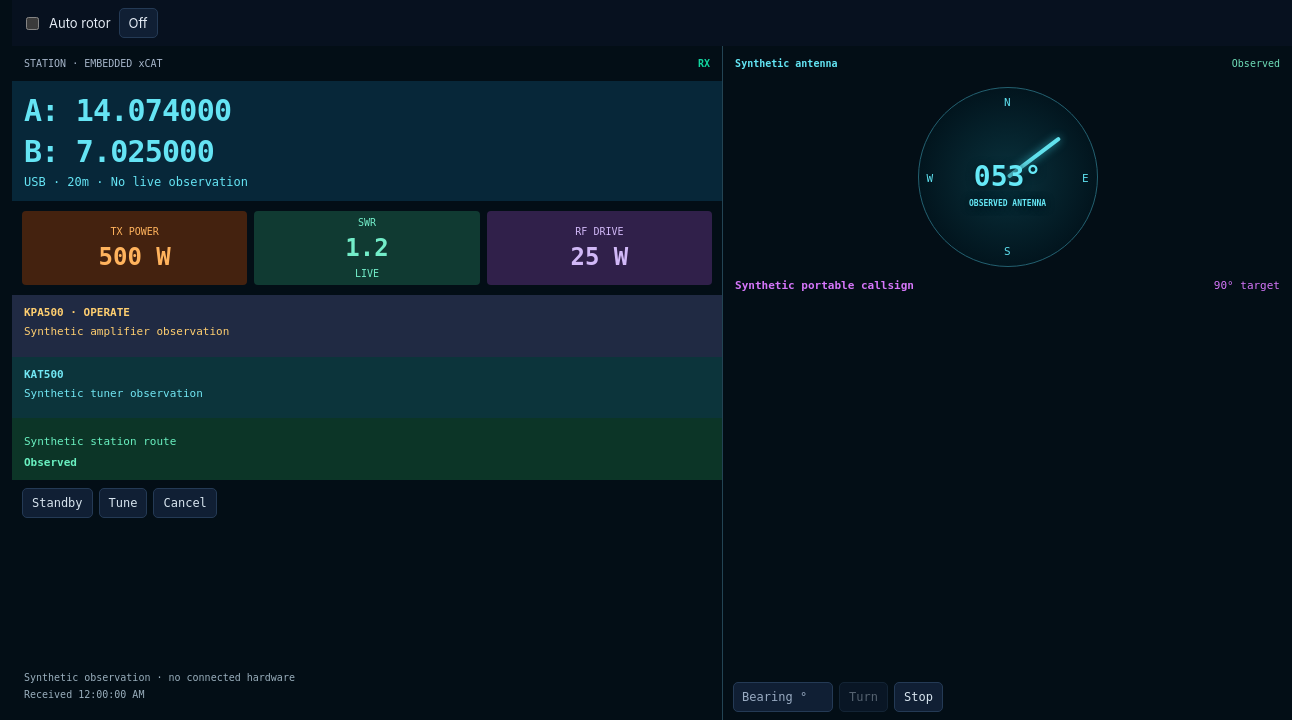
Test: clears Monitor's originating lost-reply command message after terminal receipt recovery
Type "135" into the number field named "Monitor rotor bearing".
click(783, 697); type("135")  # box [733, 682, 833, 712]
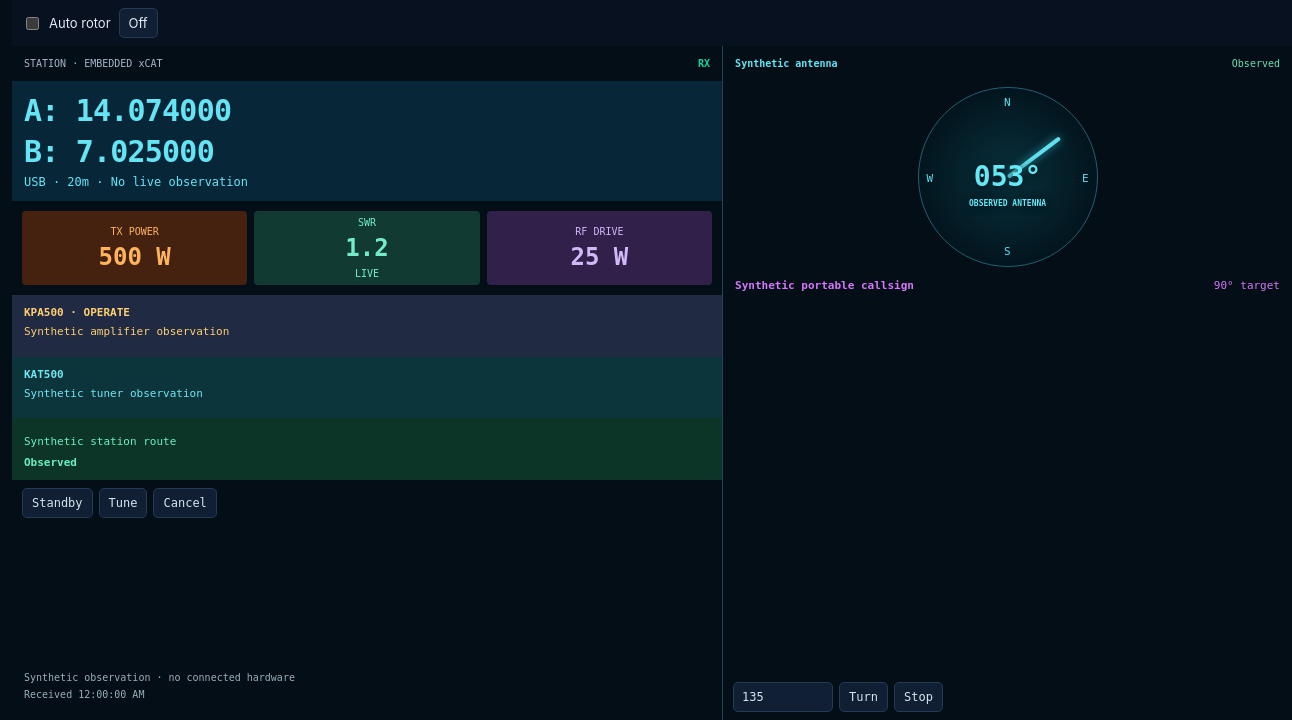
Click the button "Turn".
click(864, 697)  # box [839, 682, 888, 712]
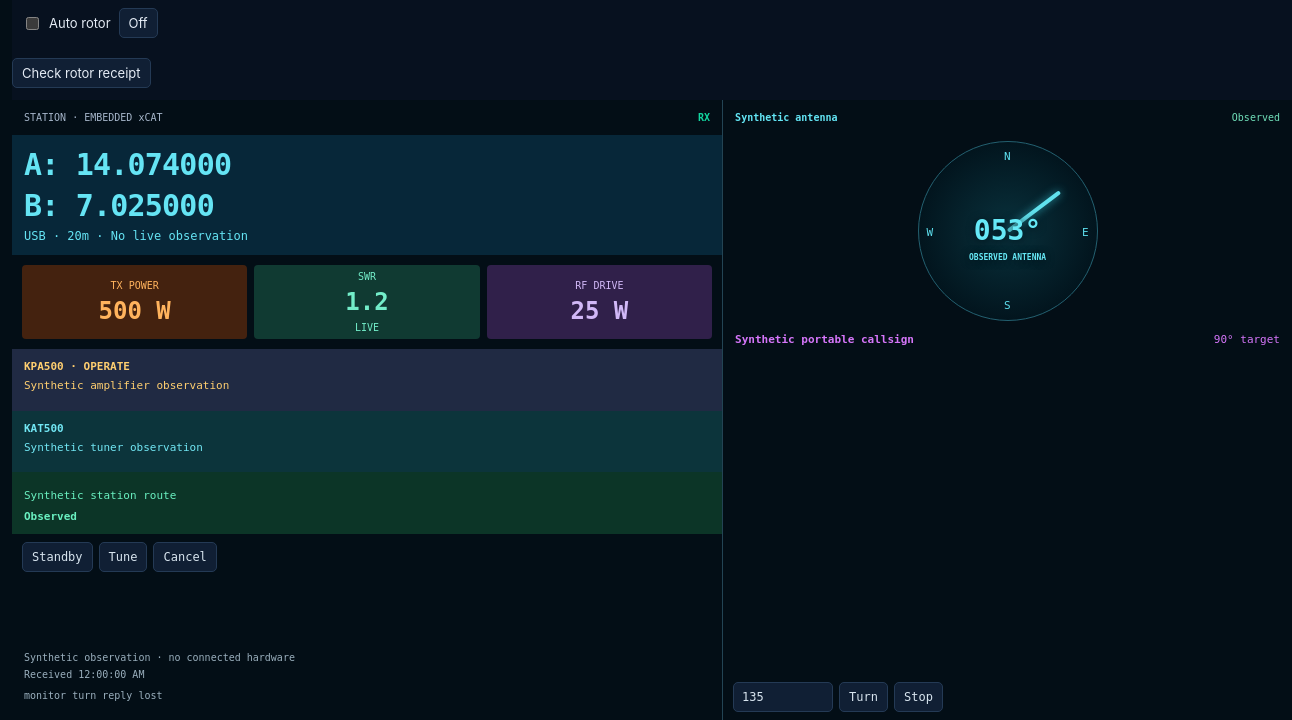
Check: the text "monitor turn reply lost" is shown, box [24, 690, 162, 701]
Click the button "Check rotor receipt".
click(81, 73)  # box [12, 58, 151, 88]
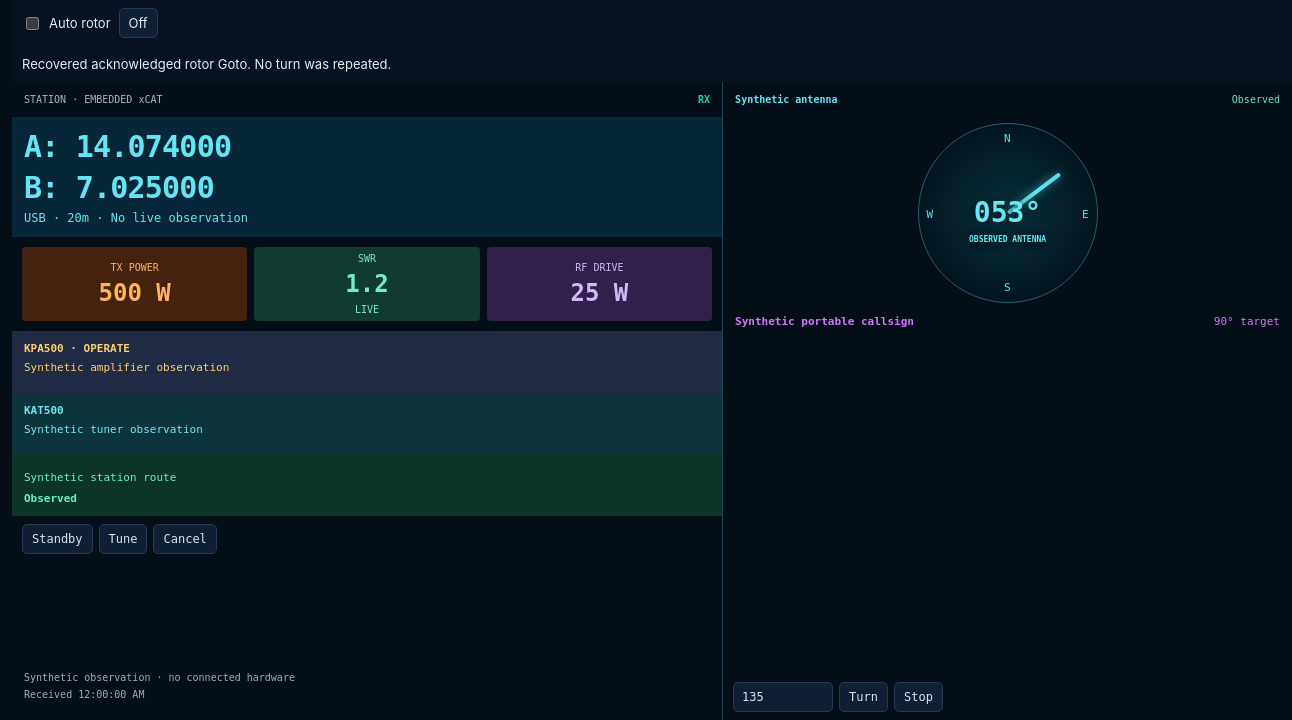
Check: the text "monitor turn reply lost" is gone
